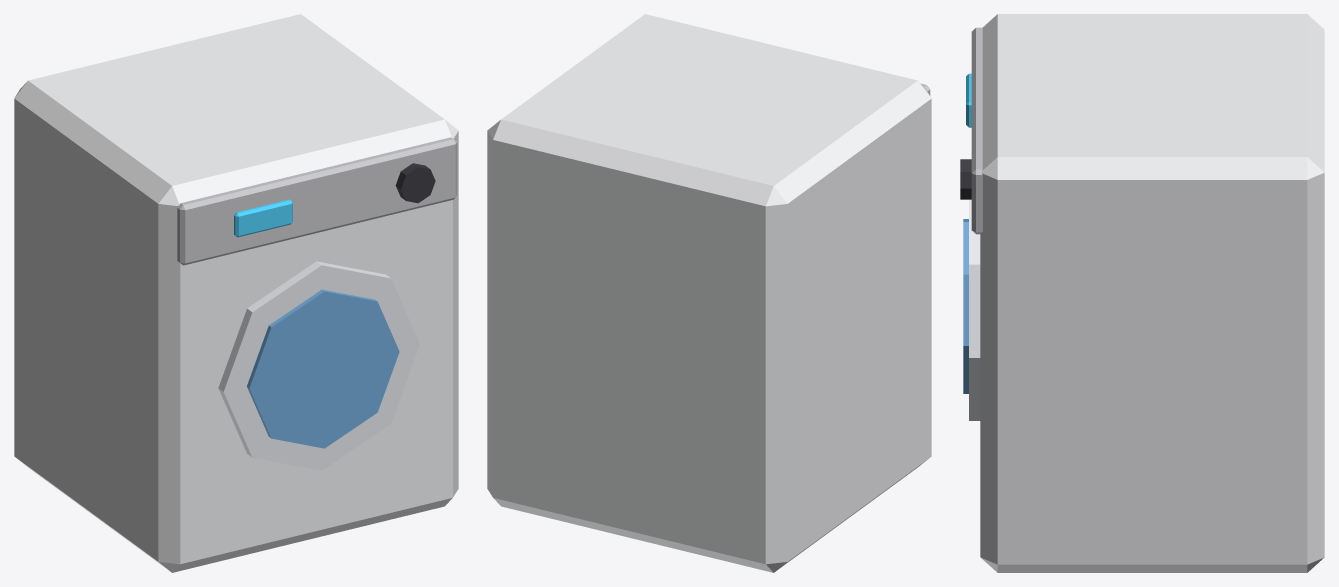
Rendered from WashingMachine.fbx.
3 renders of one model, left to right at view 1: azimuth 30°, elevation 25°; view 2: azimuth 150°, elevation 25°; view 3: azimuth 270°, elevation 25°, orthographic. The views are drawn at different scales.
Visible parts, largest first — view 1: WashingMachine; view 2: WashingMachine; view 3: WashingMachine.
Part boxes in pixels (x1,y1,x2,y2): WashingMachine: [14, 14, 458, 572]; WashingMachine: [487, 14, 931, 572]; WashingMachine: [960, 14, 1324, 572].
Bounding box in the file's own units: 2.6 × 3.2 × 2.54.
1 material, 1 textured.
